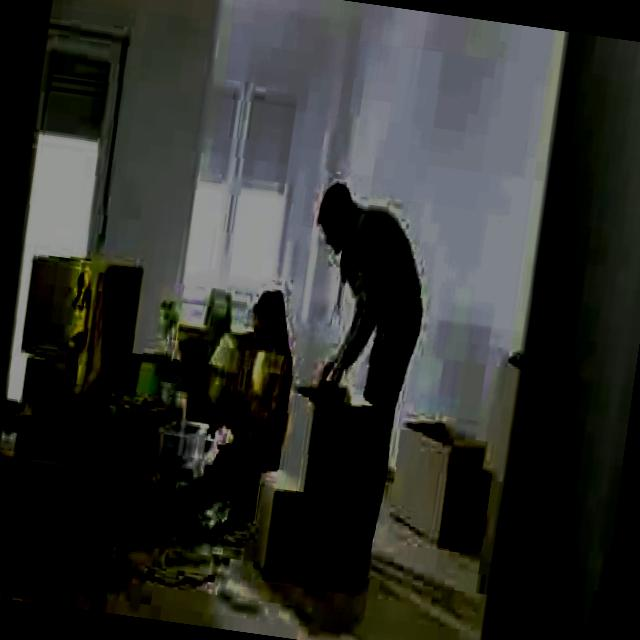Box: (0, 451, 111, 604), (14, 250, 144, 366), (384, 416, 490, 542), (4, 359, 120, 474), (246, 469, 354, 574), (280, 388, 374, 495)
